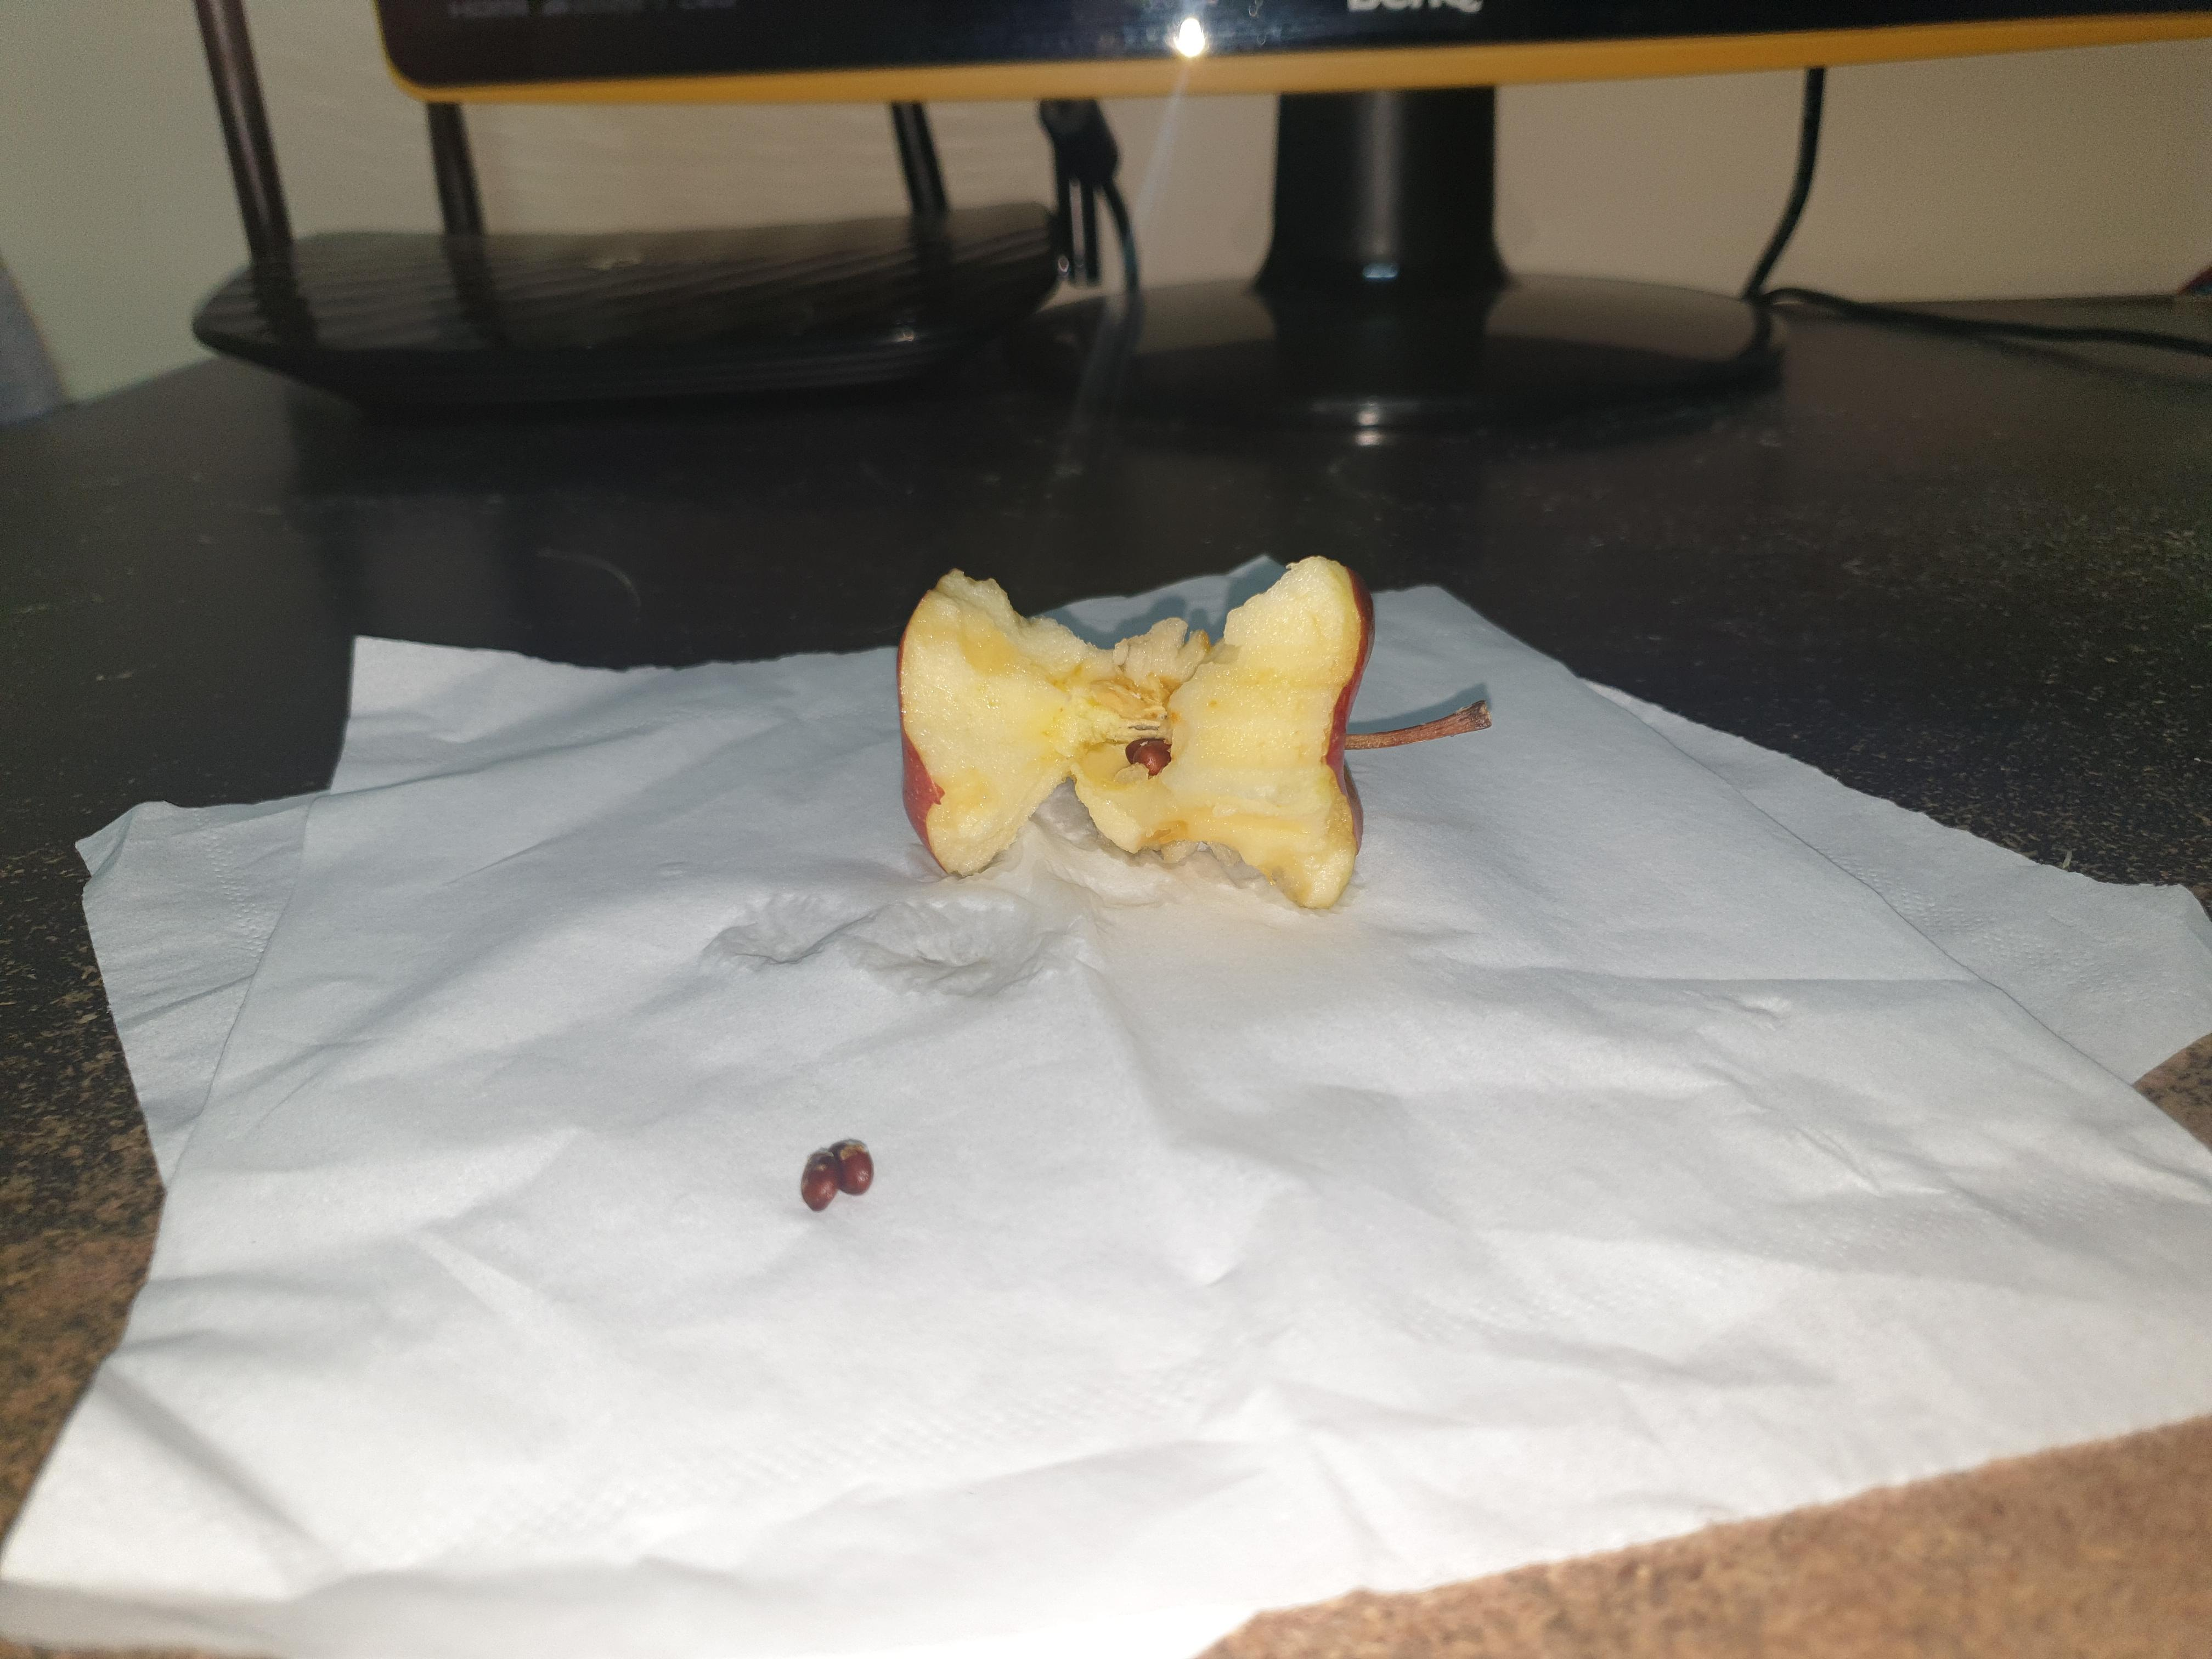Apple: (862, 540, 1500, 913)
